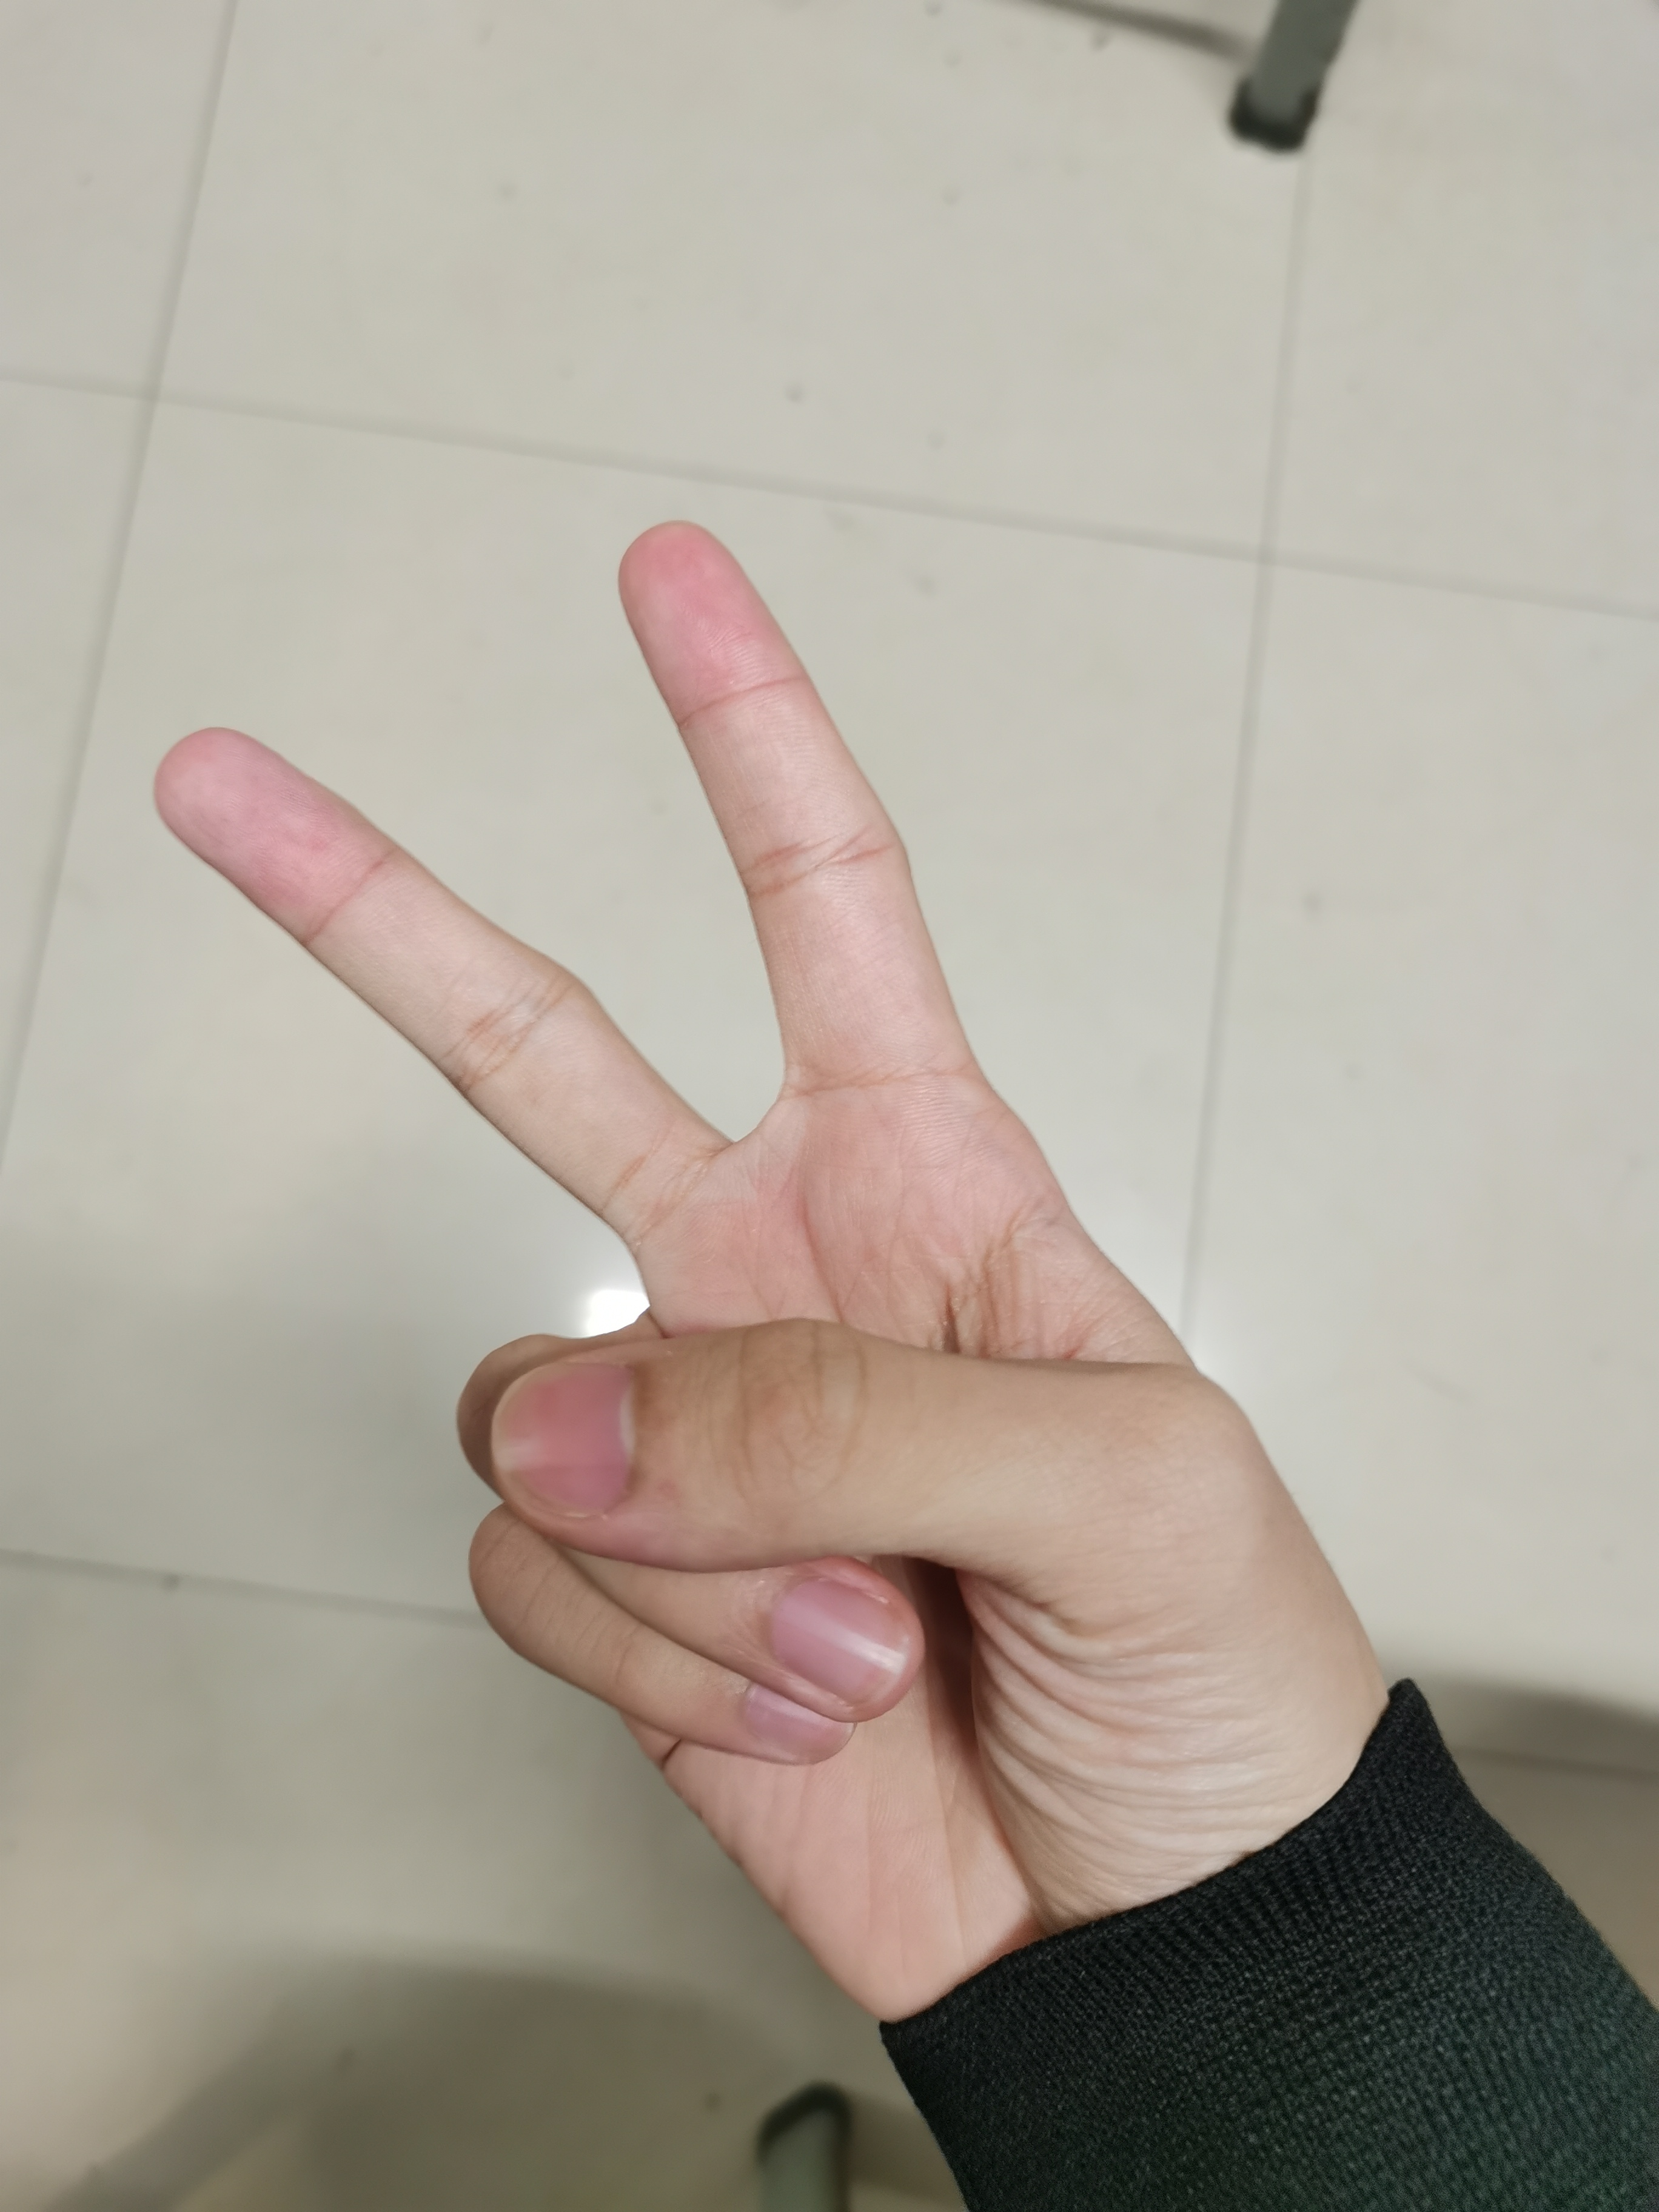no-phone: (139, 475, 1398, 1996)
